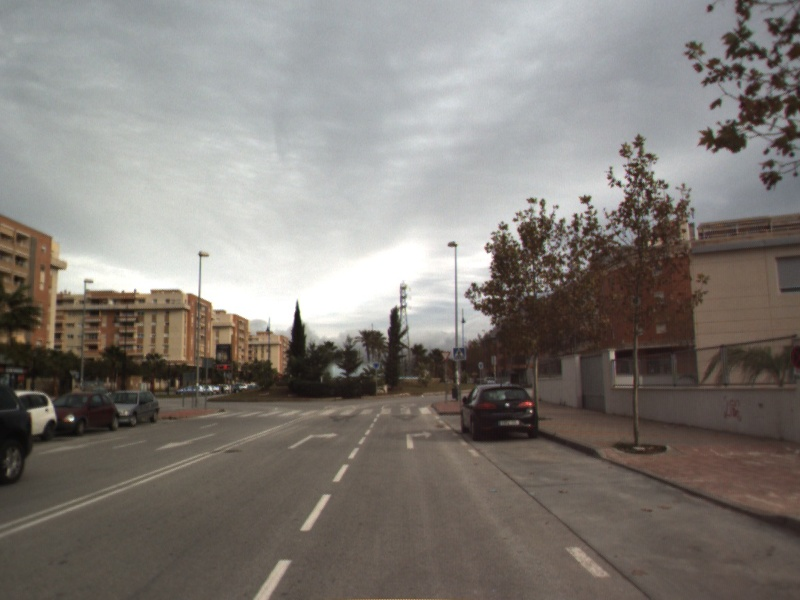RIGHT: (286, 430, 340, 451), (404, 428, 435, 451)
